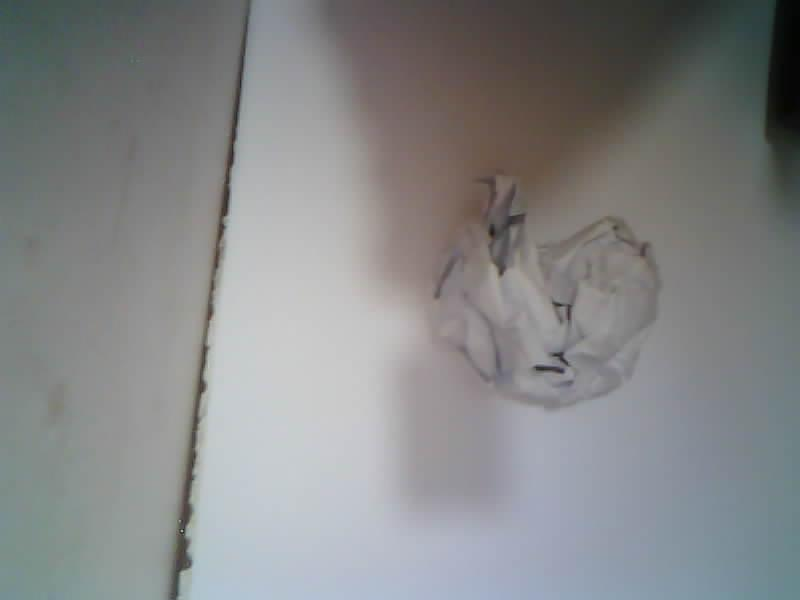biodegradable: (434, 175, 659, 409)
